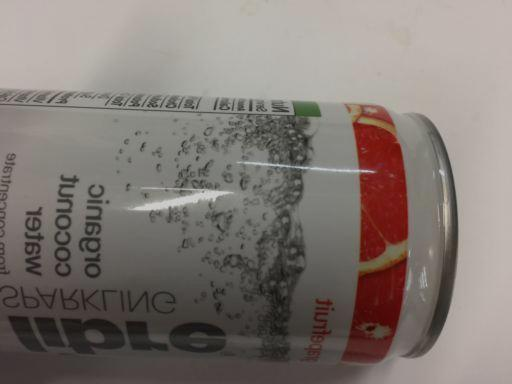metal: (0, 79, 457, 368)
